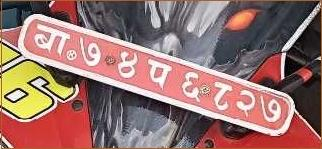2: (235, 84, 258, 118)
4: (115, 49, 141, 80)
6: (181, 70, 205, 105)
7: (259, 89, 287, 123), (78, 35, 104, 68)
8: (211, 79, 234, 111)
ba: (32, 22, 71, 60)
pa: (145, 52, 172, 94)
